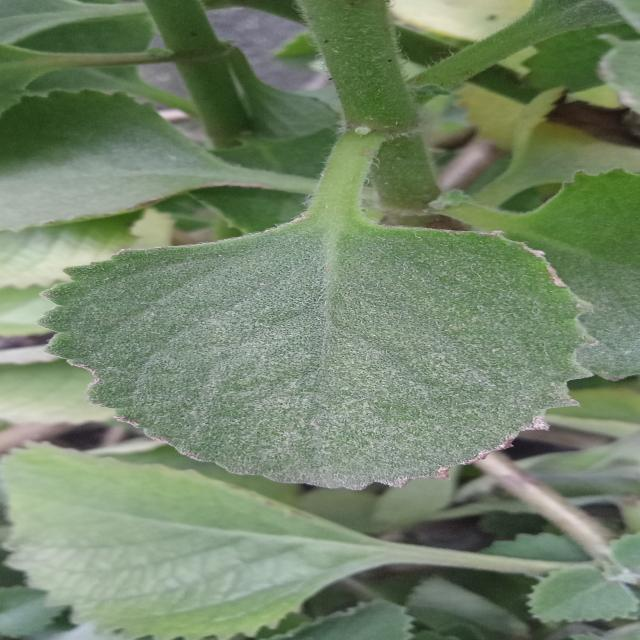Oregano: (25, 197, 633, 501)
